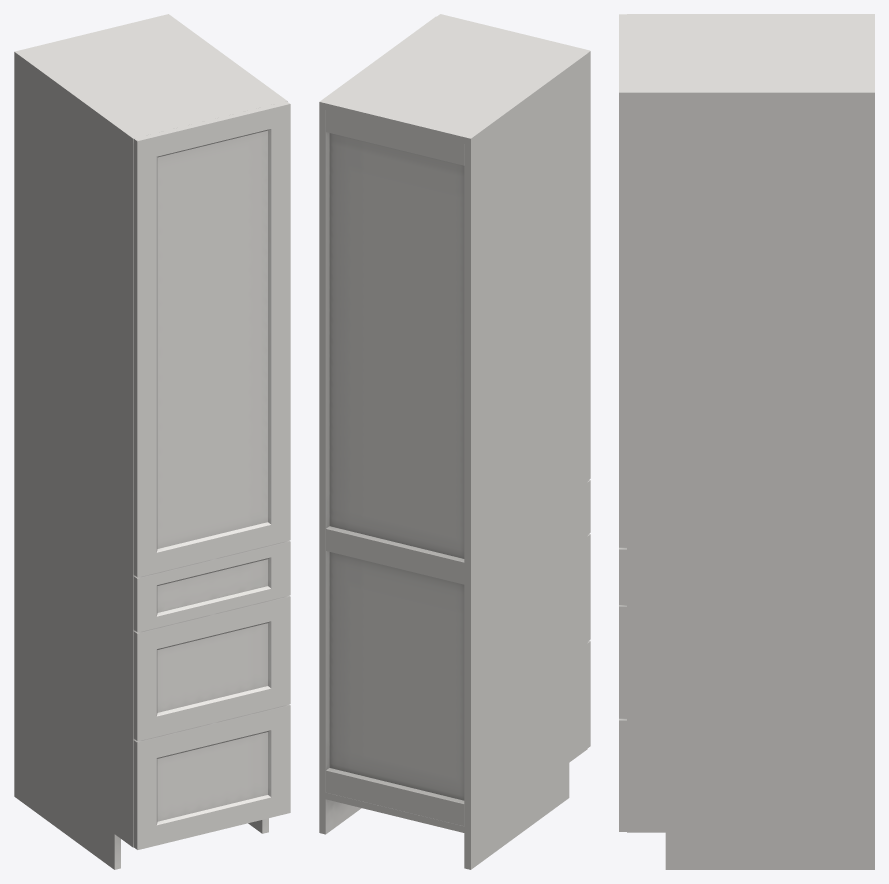
The model's file is tall-1-door-3-drawer-doors-on.glb.
3 views of the same model, side by side, from view 1: azimuth 30°, elevation 25°; view 2: azimuth 150°, elevation 25°; view 3: azimuth 270°, elevation 25° (orthographic). The views are drawn at different scales.
Parts seen in each view (by area): view 1: part_21, part_0; view 2: part_0, part_21; view 3: part_0, part_21.
Part boxes in pixels (x1,y1,x2,y2): part_21: (133,101,290,849); part_0: (14,14,287,869); part_0: (319,16,587,869); part_21: (437,14,590,747); part_0: (627,14,874,869); part_21: (619,14,626,831).
Size of the model in its own units: 0.4572 by 2.11 by 0.6287.
Materials: 3 (2 with a texture image).
